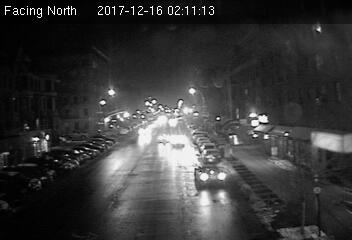car: (194, 165, 227, 188), (201, 150, 220, 164)
